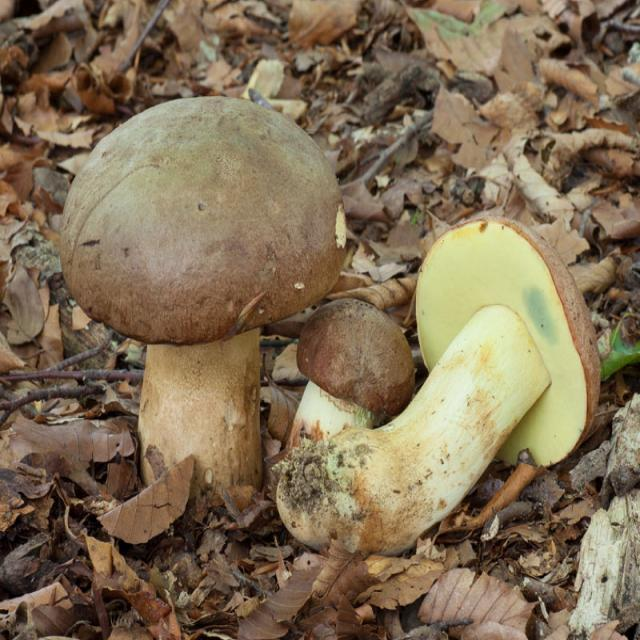Boletus: (59, 99, 348, 505), (281, 212, 602, 552), (298, 296, 411, 477)
